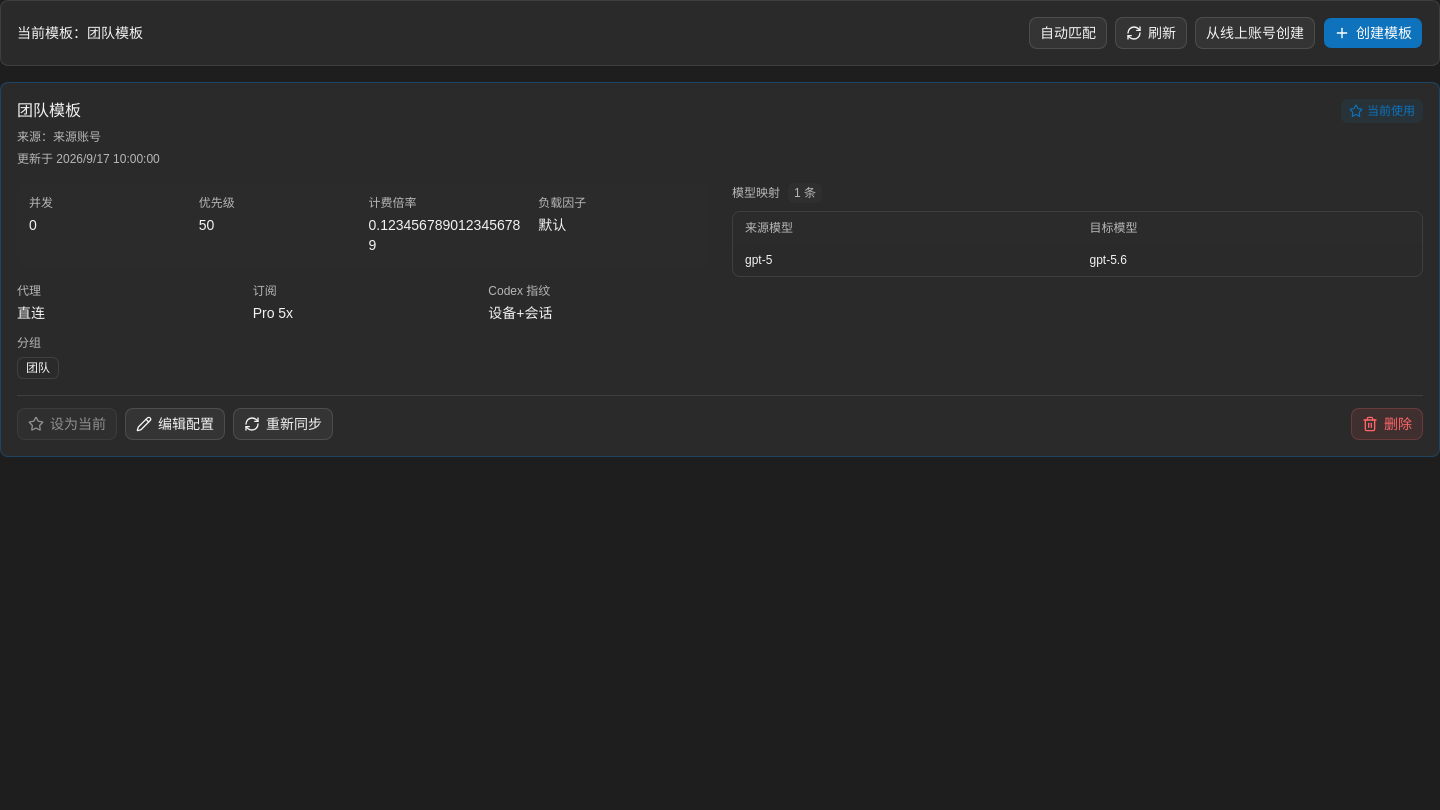
Test case: 删除模板先显示确认，取消不会发请求，确认携带版本
Click the button with aria-label "删除模板 团队模板".
click(1387, 424)  # box [1351,408,1423,440]
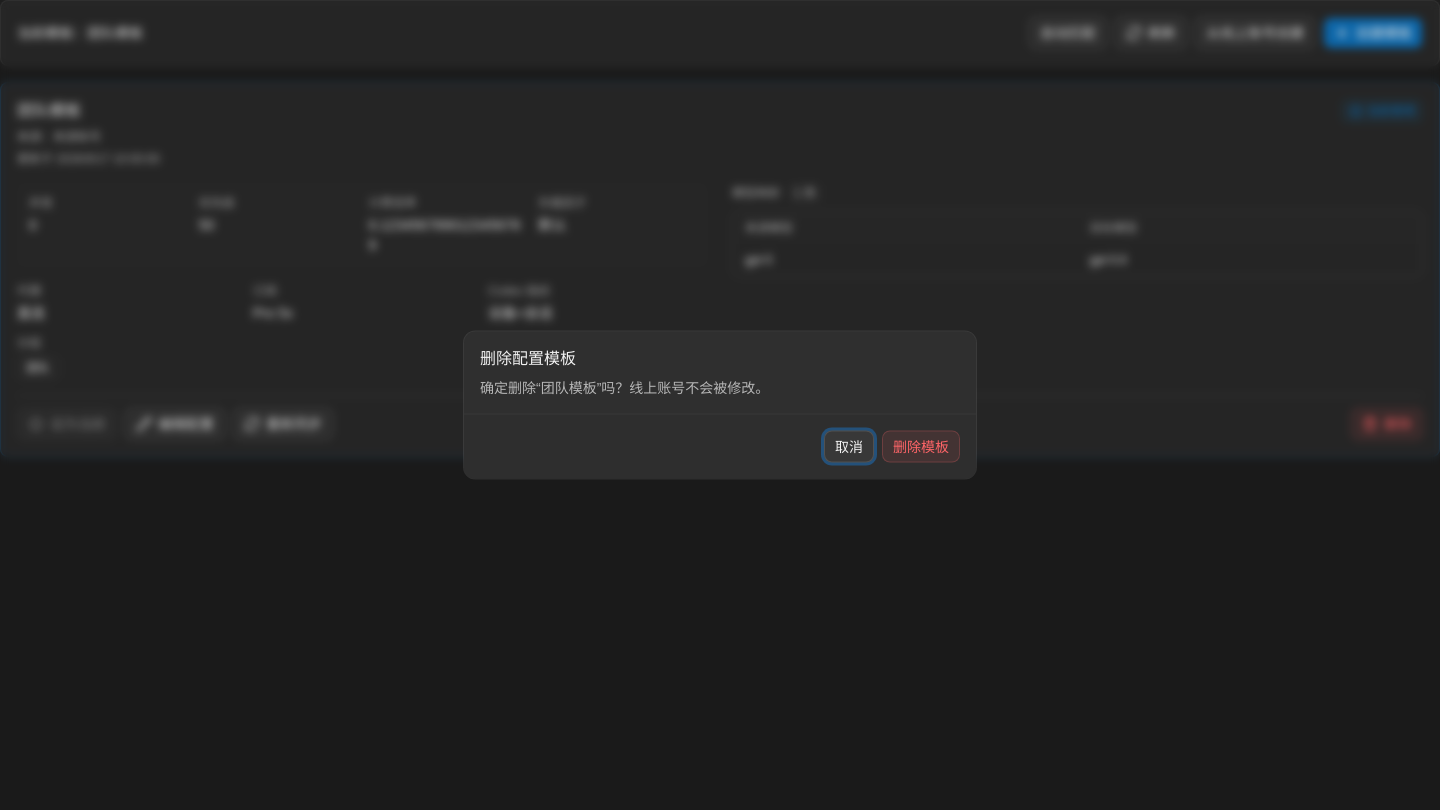
Click the button "取消".
click(849, 446)  # box [824,430,874,462]
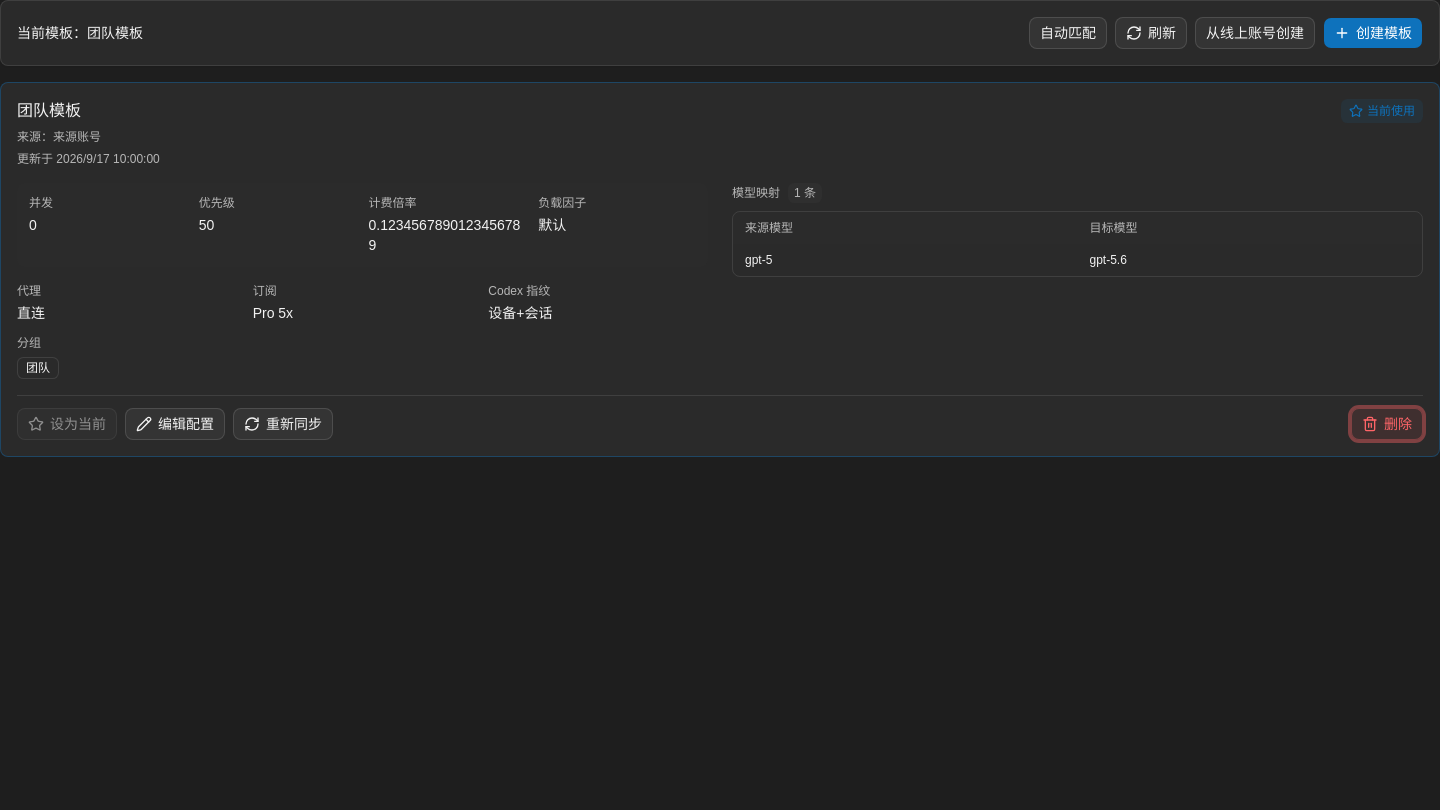
Click the button with aria-label "删除模板 团队模板".
click(1387, 424)  # box [1351,408,1423,440]
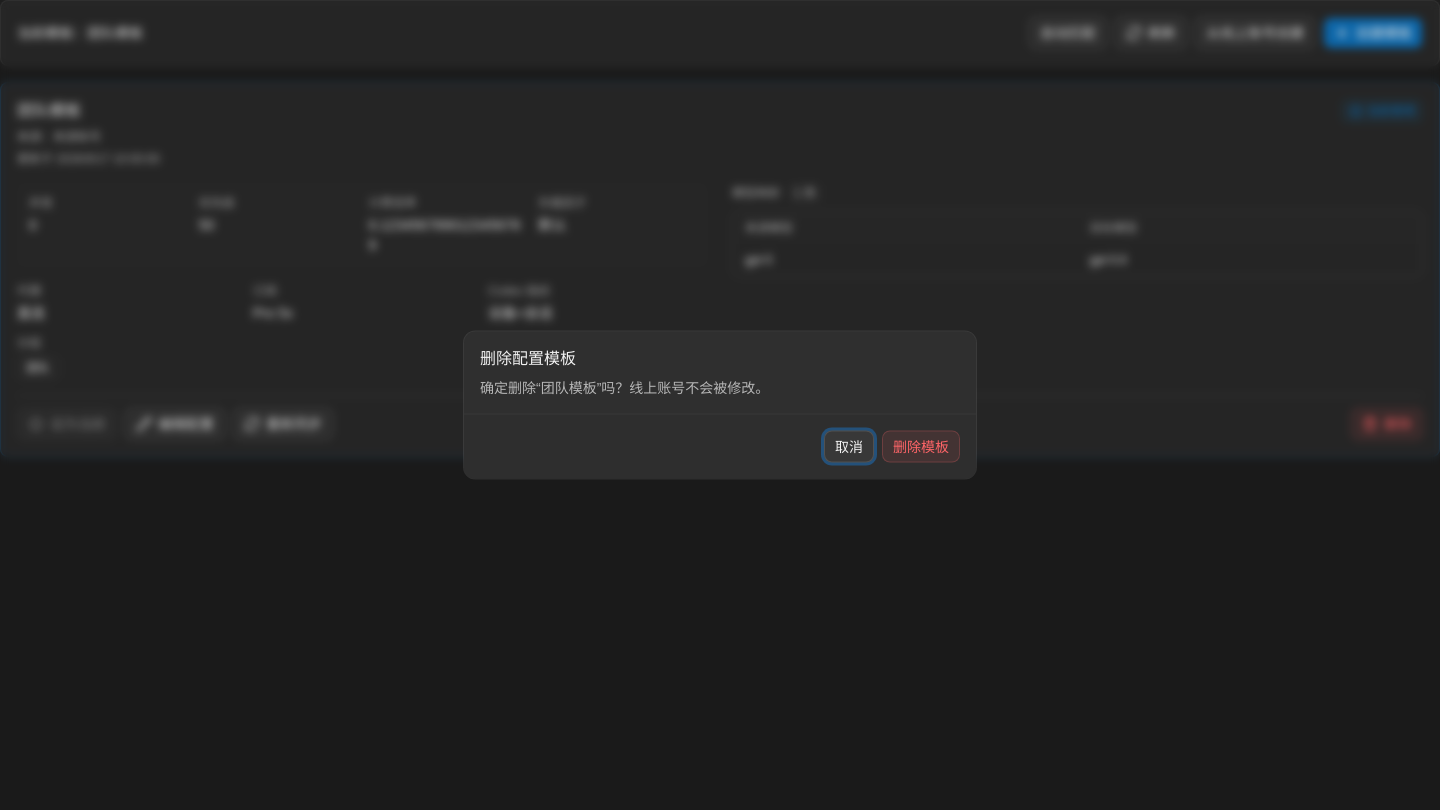
Click the button "删除模板".
click(921, 446)  # box [882,430,960,462]
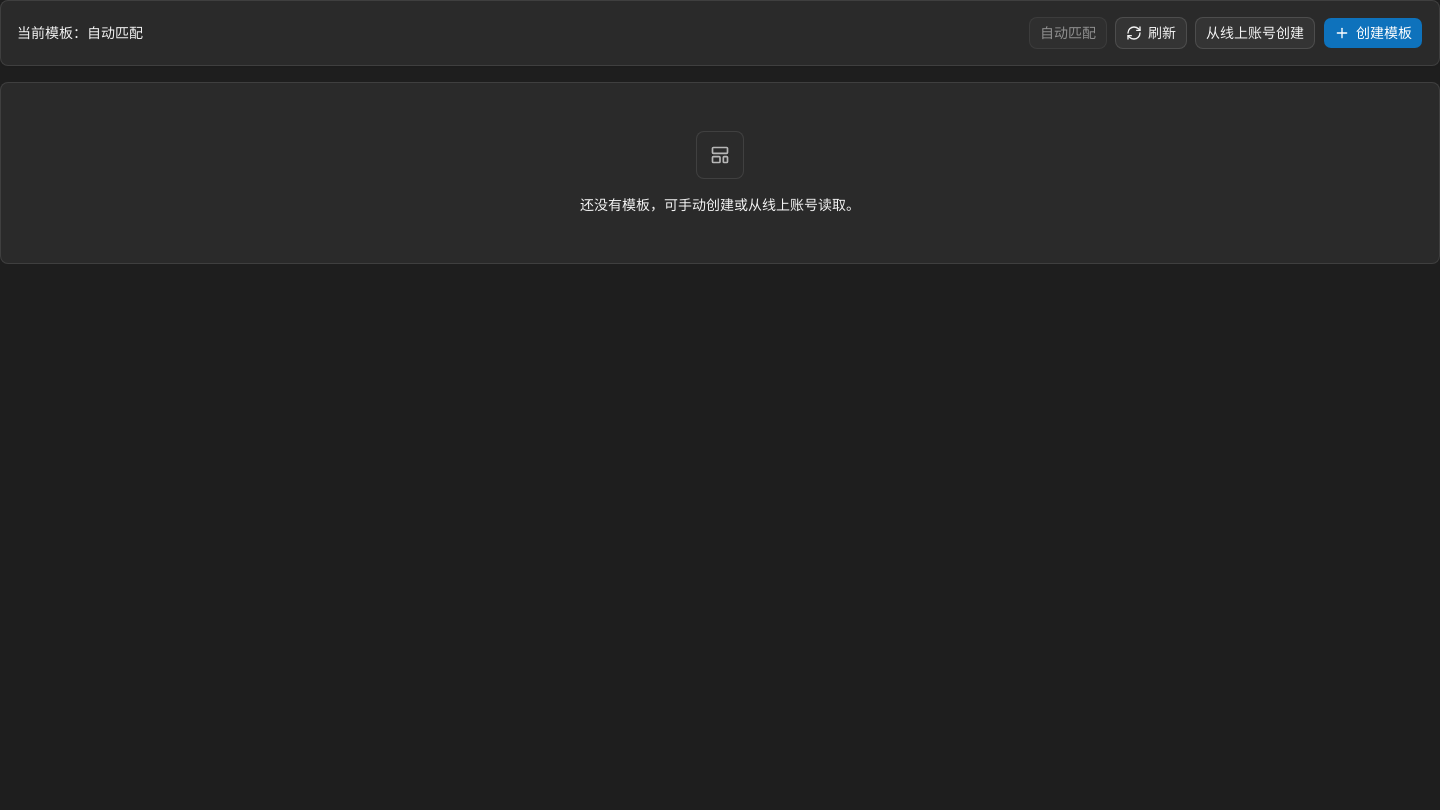
Expected: the text "还没有模板，可手动创建或从线上账号读取。" is shown, [580,195,860,215]
